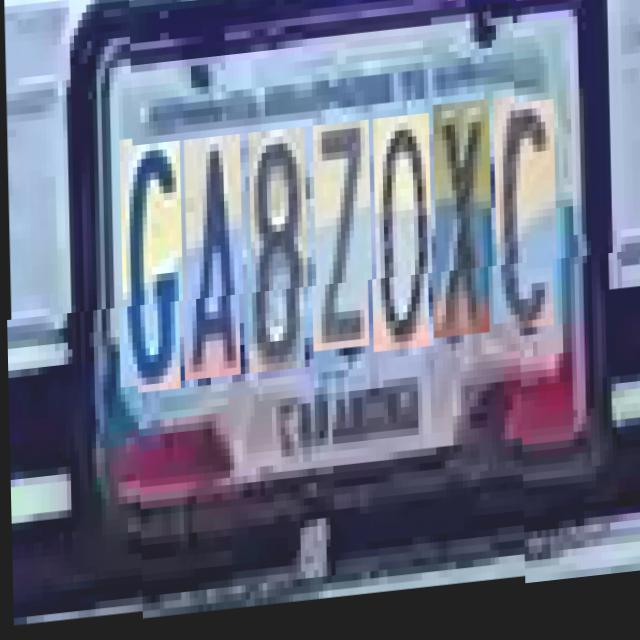8: (248, 134, 308, 378)
A: (184, 140, 244, 384)
C: (492, 104, 556, 336)
G: (119, 144, 183, 397)
O: (372, 123, 432, 360)
X: (432, 110, 492, 348)
Z: (312, 128, 372, 358)
